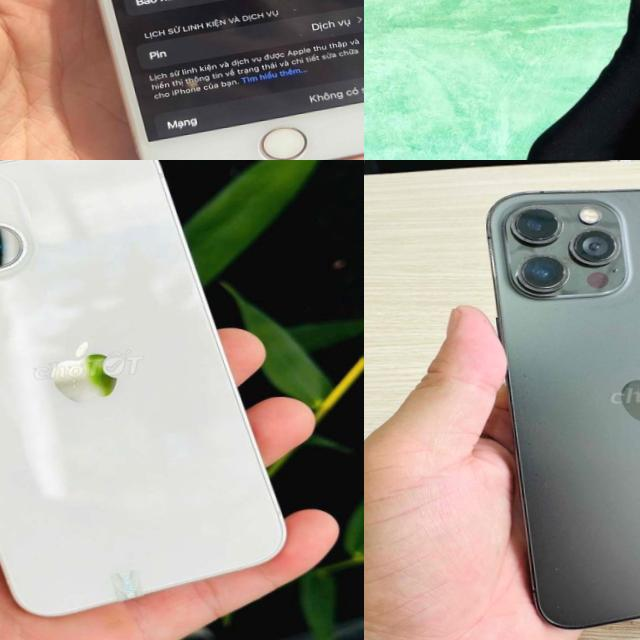gen_12_13: (0, 160, 293, 629), (481, 173, 640, 635)
gen_14: (535, 0, 640, 160)
gen_7_8: (25, 0, 364, 160)
